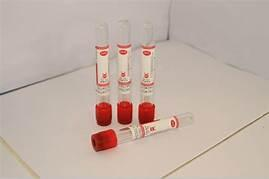Syringe: (85, 111, 196, 153), (90, 19, 114, 130), (112, 14, 136, 125), (136, 19, 157, 121)
